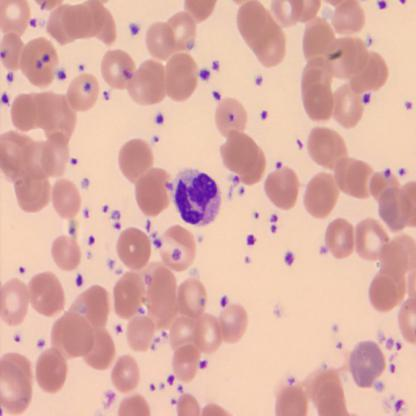Segmented neutrophil: (170, 166, 223, 230)
